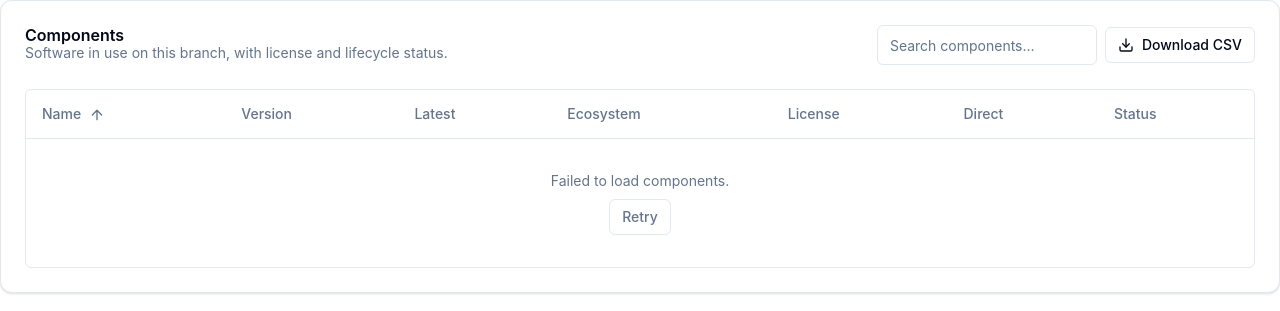
Test case: ComponentsTable › reloads the table when Retry is clicked after a failure
Check: the text "Failed to load components." is shown, box [551,170,729,190]
Click the button "Retry".
click(640, 216)  # box [609,198,671,234]
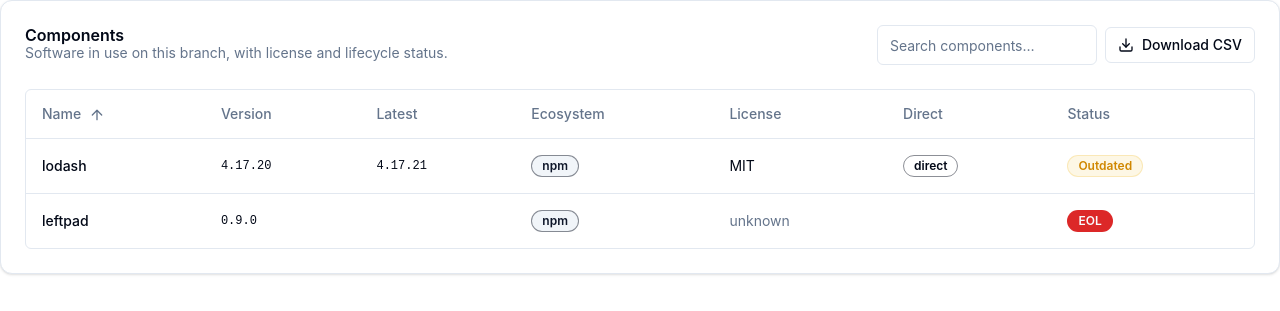
Check: the text "lodash" is shown, box [26,138,205,193]
